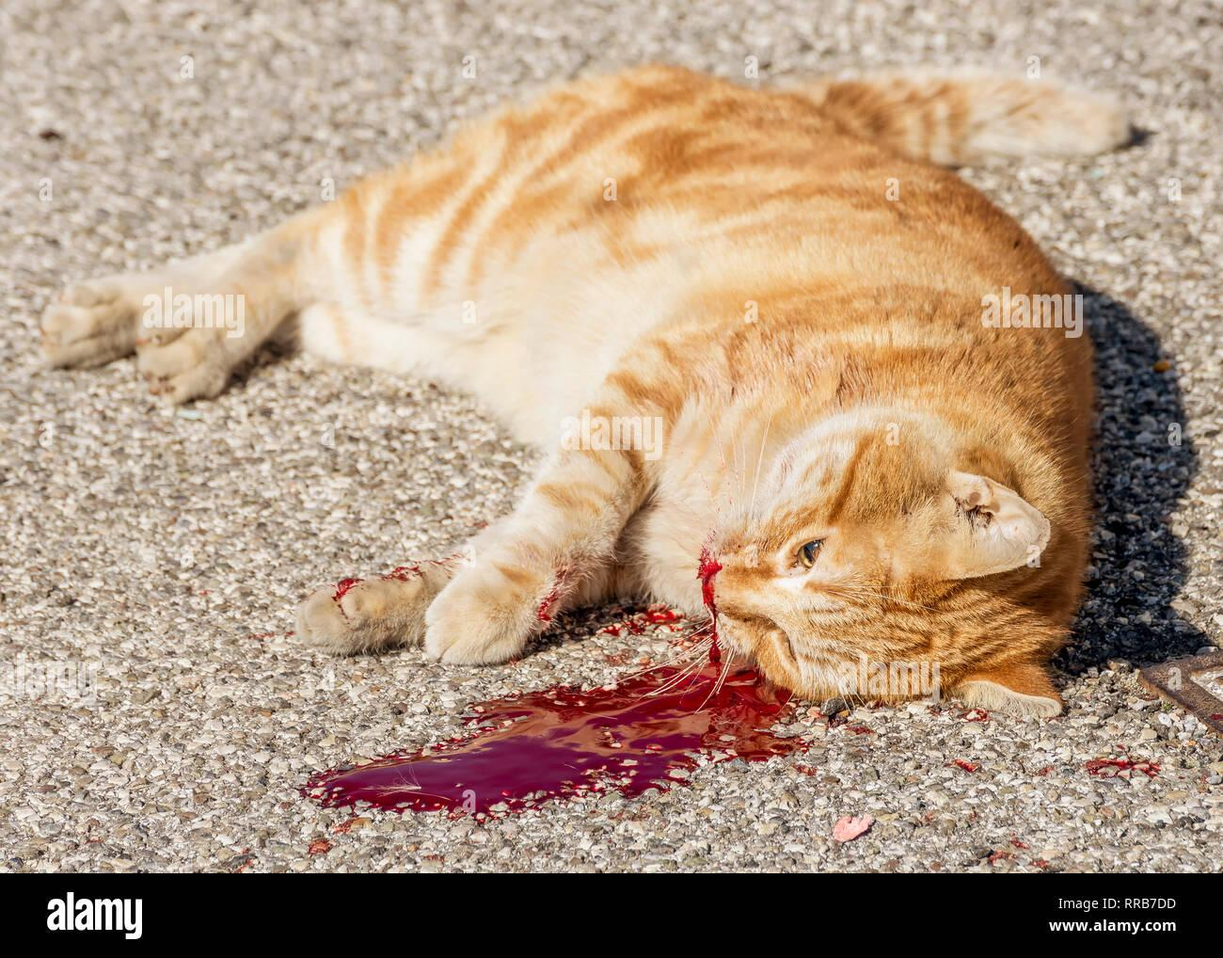bleeding: (422, 409, 976, 844)
